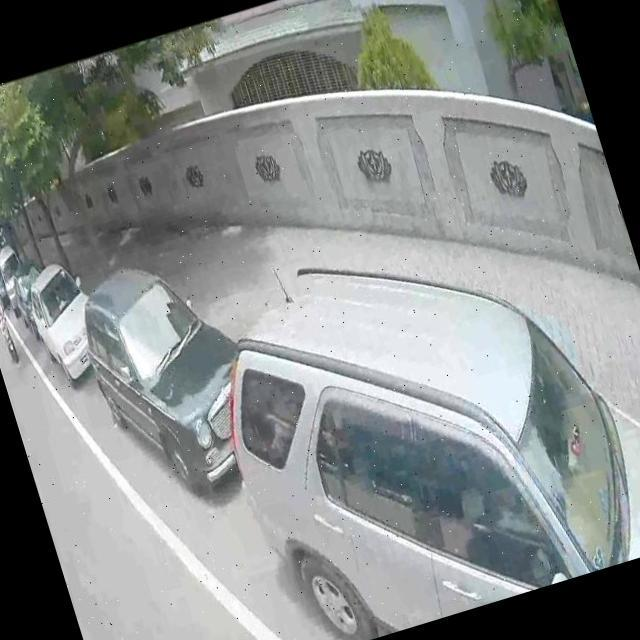person: (0, 297, 7, 325)
